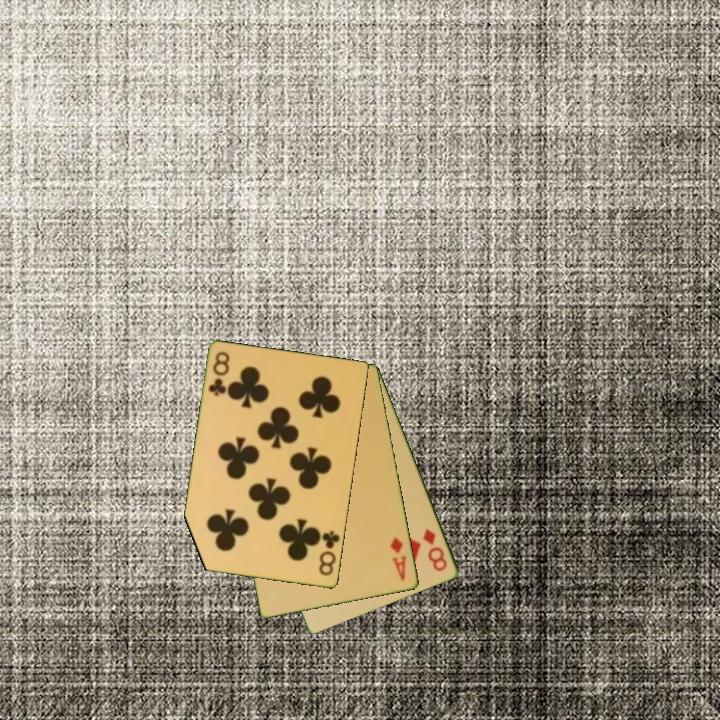8c: (205, 348, 233, 399), (316, 527, 343, 579)
8d: (420, 525, 450, 575)
Ad: (387, 534, 410, 584)
